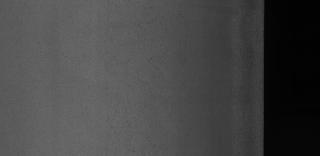silk spot: (98, 55, 184, 138)
